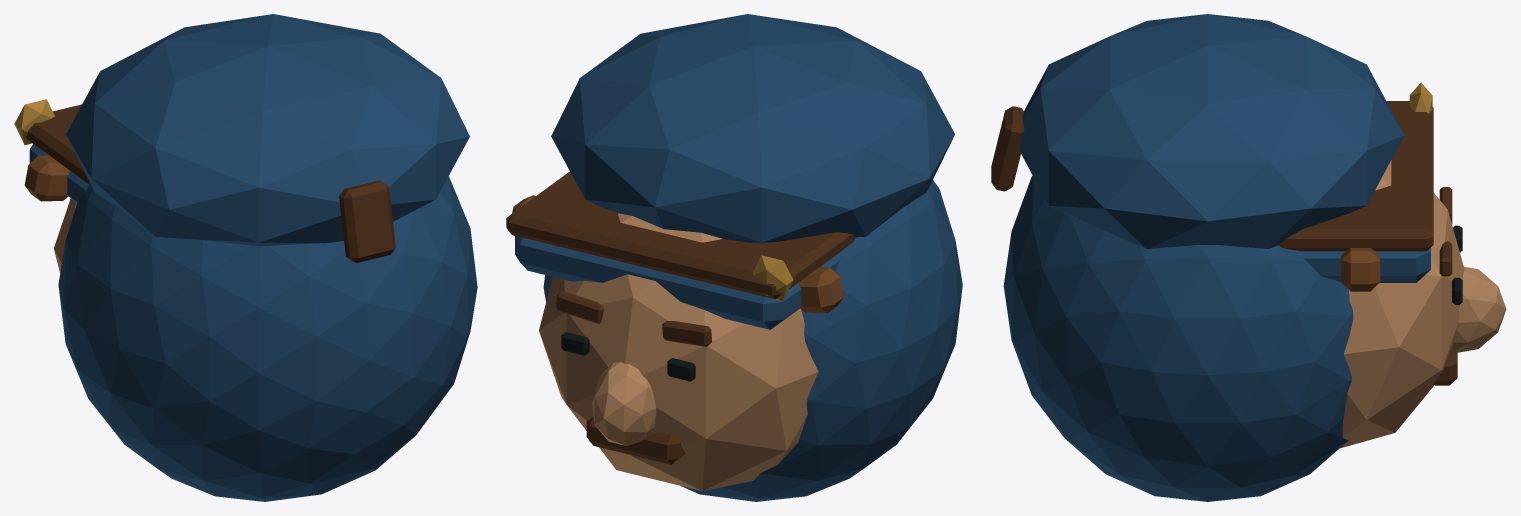
The model's file is Head.glb.
3 renders of one model, left to right at view 1: azimuth 30°, elevation 25°; view 2: azimuth 150°, elevation 25°; view 3: azimuth 270°, elevation 25°, orthographic.
Visible parts, largest first — view 1: Sculpture; view 2: Sculpture; view 3: Sculpture.
Boxes of the visible parts, x1,y1,x2,y2 form: Sculpture: (14,14,477,501); Sculpture: (506,14,962,501); Sculpture: (991,14,1506,501).
Size of the model in its own units: 0.56 by 0.64 by 0.6812.
